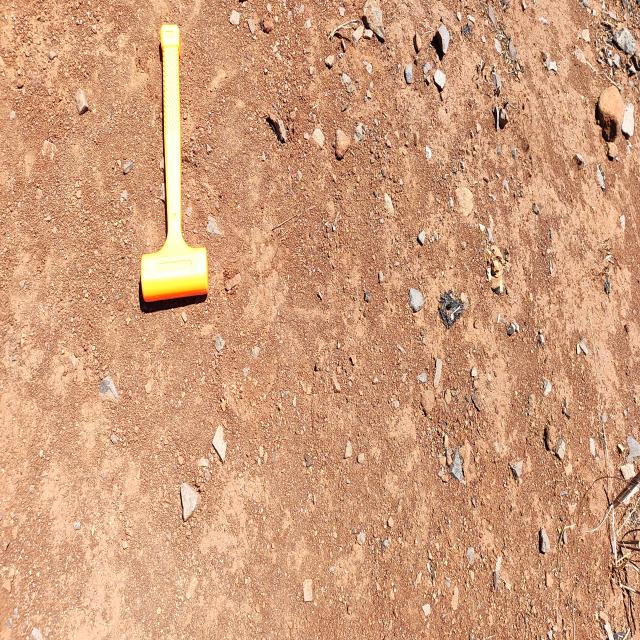Orange_hammer: (140, 22, 209, 303)
